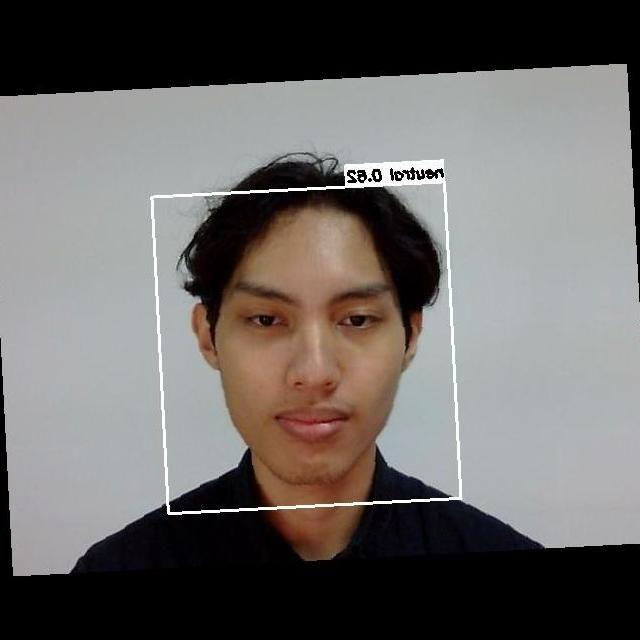Natural: (220, 256, 406, 451)
